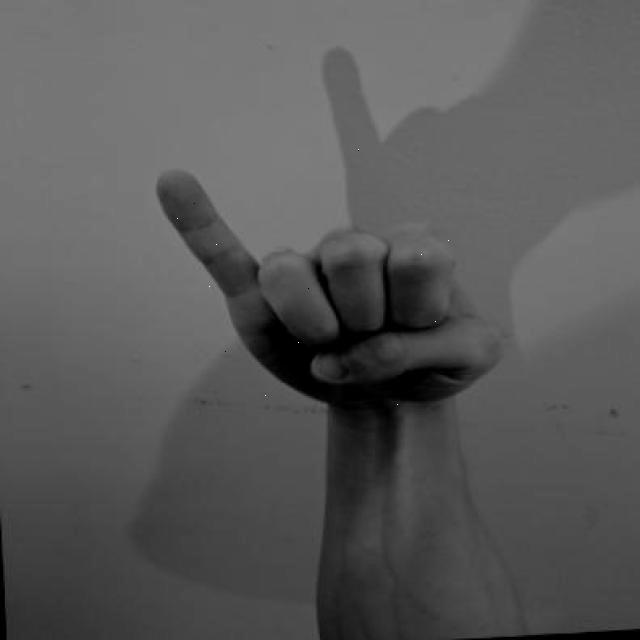I: (147, 149, 516, 423)
